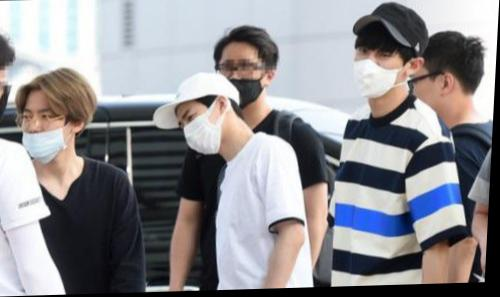OK: (350, 43, 409, 102), (178, 108, 225, 155)
WRONG: (19, 106, 77, 162), (217, 59, 268, 111)
